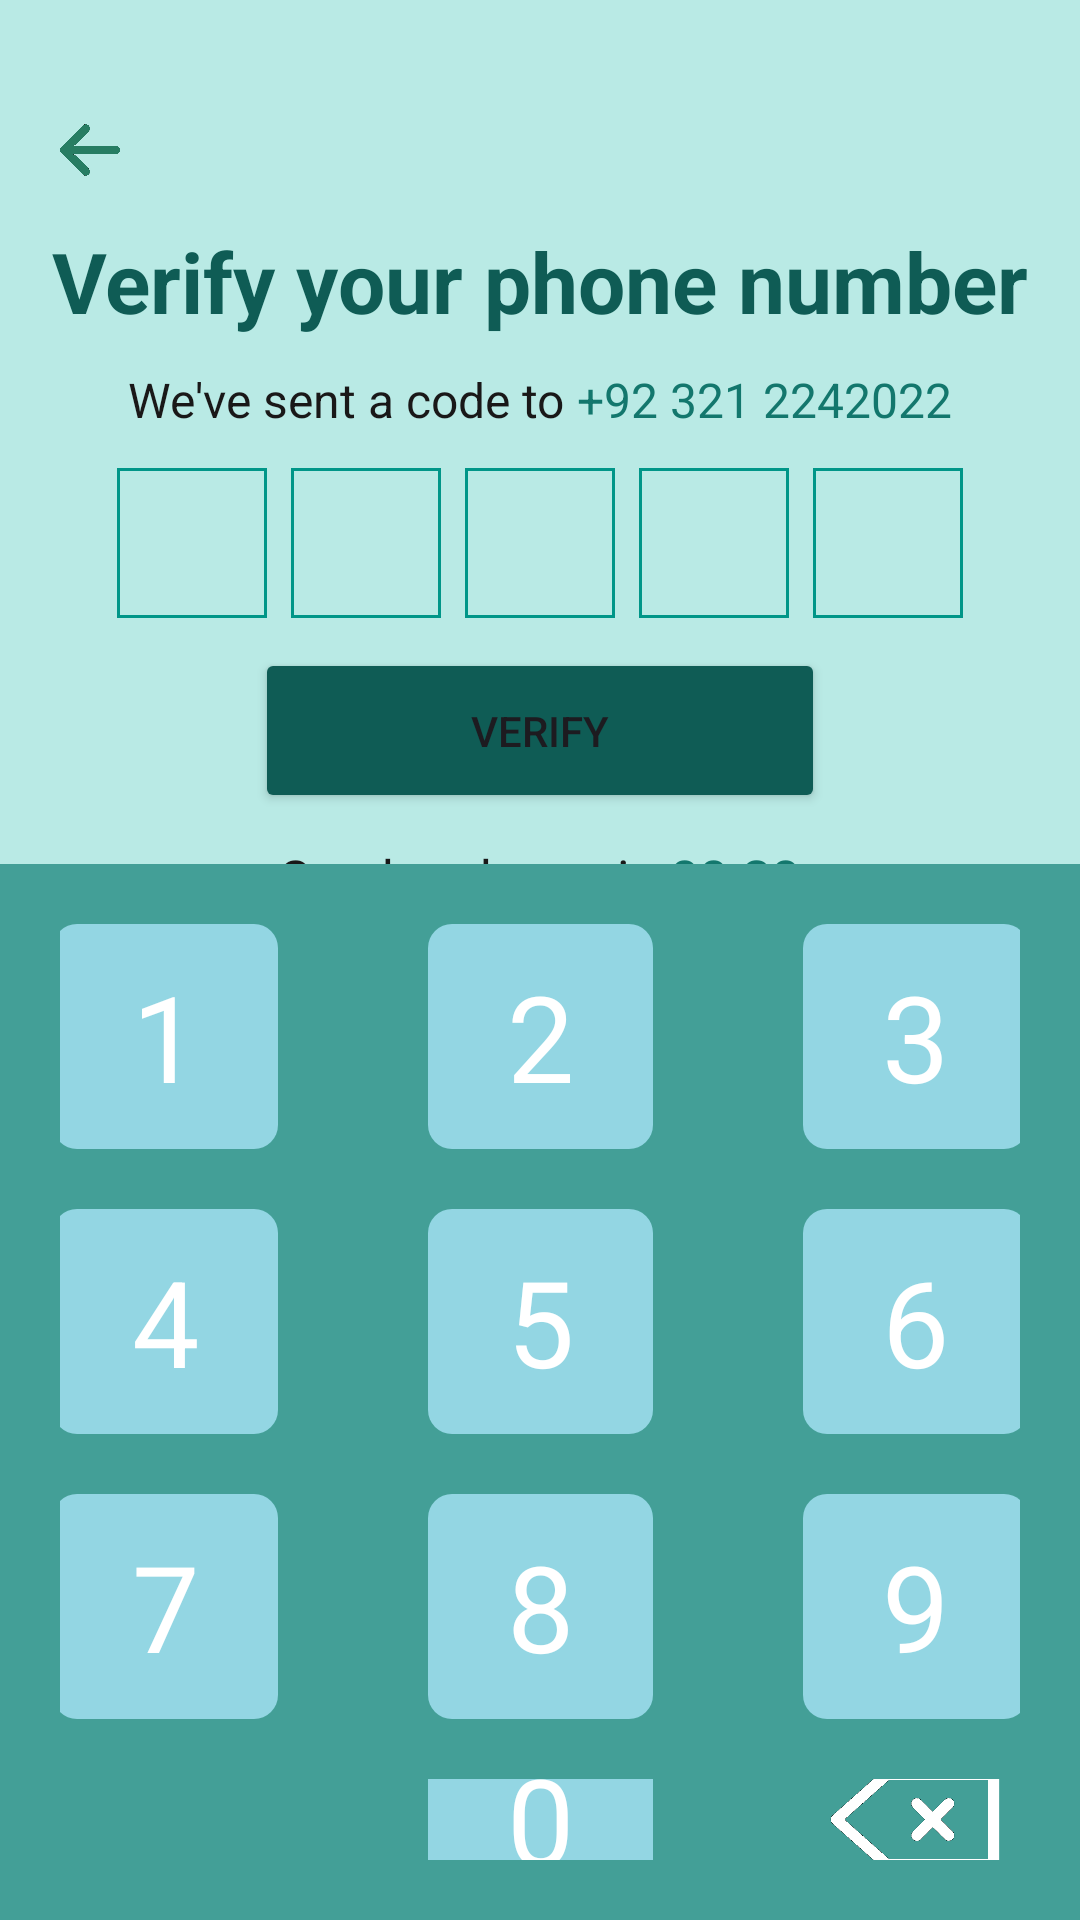

Named icons in this screenshot (1080 x 1920) and their bounding boxes, (x1, y1, x2, y2):
arrow: (60, 124, 120, 176)
